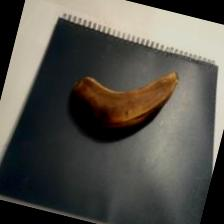Banana Rotten: (64, 54, 184, 153)
